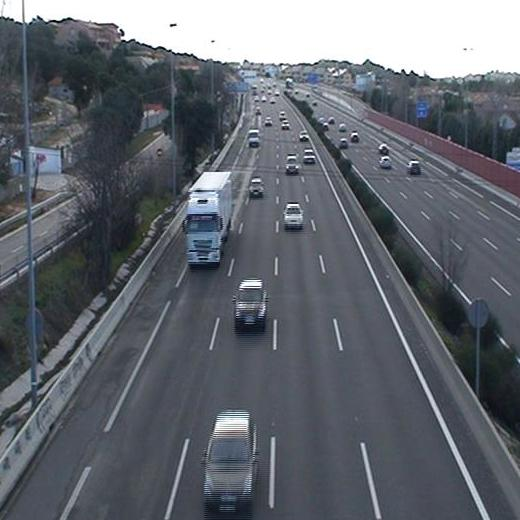car: (200, 409, 260, 517), (231, 277, 268, 331), (281, 203, 305, 228), (247, 177, 266, 198), (284, 154, 300, 175), (302, 148, 317, 164), (247, 129, 260, 146), (297, 129, 310, 142)
truck: (179, 171, 235, 269)
